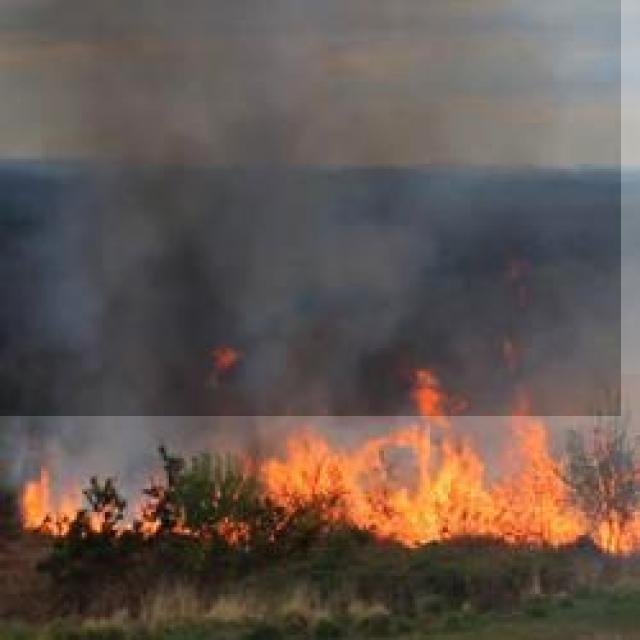Fire: (0, 374, 640, 547)
Smoke: (0, 0, 621, 416)
